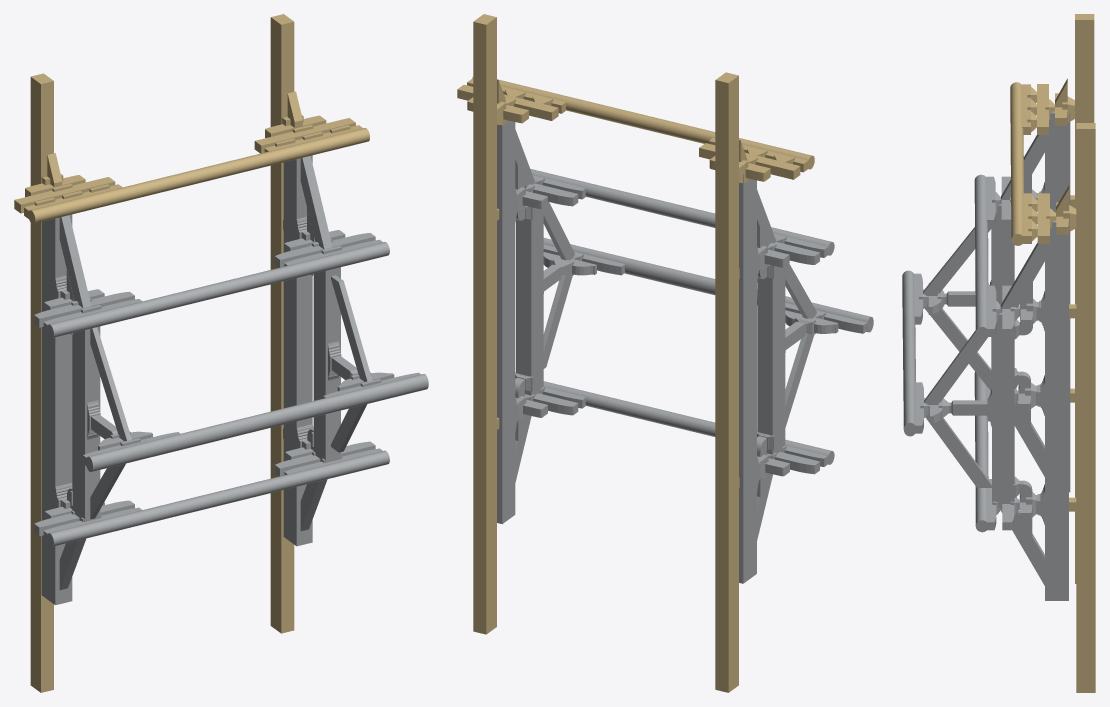
Rendered from COMPLETE_ROLE_GROUP_TEST_ONLY.glb.
3 renders of one model, left to right at view 1: azimuth 30°, elevation 25°; view 2: azimuth 150°, elevation 25°; view 3: azimuth 270°, elevation 25°, orthographic. The views are drawn at different scales.
Visible parts, largest first — view 1: east:UPPER_SIX_TEST, west:UPPER_SIX_TEST, west:FOUR_BEAM, east:FOUR_BEAM, RIDGE_PURLIN, UPPER_PURLIN_FRONT, UPPER_PURLIN_REAR, LOWER_PURLIN_FRONT, west:PINGLIANG, east:PINGLIANG, east:TUOJIAO_FRONT, west:TUOJIAO_FRONT (+12 smaller); view 2: east:UPPER_SIX_TEST, west:UPPER_SIX_TEST, east:FOUR_BEAM, west:FOUR_BEAM, west:PINGLIANG, east:PINGLIANG, LOWER_PURLIN_FRONT, UPPER_PURLIN_FRONT, UPPER_PURLIN_REAR, RIDGE_PURLIN, east:CHASHOU_REAR, west:CHASHOU_REAR (+4 smaller); view 3: east:UPPER_SIX_TEST, east:FOUR_BEAM, east:PINGLIANG, west:UPPER_SIX_TEST, west:FOUR_BEAM, LOWER_PURLIN_FRONT, UPPER_PURLIN_FRONT, RIDGE_PURLIN, west:PINGLIANG, UPPER_PURLIN_REAR, east:CHASHOU_FRONT, east:CHASHOU_REAR (+21 smaller).
Boxes of the visible parts, x1,y1,x2,y2 form: east:UPPER_SIX_TEST: [270, 14, 294, 633]; west:UPPER_SIX_TEST: [30, 73, 53, 692]; west:FOUR_BEAM: [41, 214, 72, 605]; east:FOUR_BEAM: [283, 155, 312, 546]; RIDGE_PURLIN: [86, 374, 428, 472]; UPPER_PURLIN_FRONT: [46, 242, 389, 338]; UPPER_PURLIN_REAR: [46, 450, 389, 546]; LOWER_PURLIN_FRONT: [28, 128, 369, 223]; west:PINGLIANG: [72, 326, 100, 521]; east:PINGLIANG: [313, 267, 340, 462]; east:TUOJIAO_FRONT: [300, 156, 332, 249]; west:TUOJIAO_FRONT: [59, 215, 91, 308]; east:UPPER_SIX_TEST: [473, 14, 496, 634]; west:UPPER_SIX_TEST: [715, 72, 738, 692]; east:FOUR_BEAM: [497, 120, 515, 524]; west:FOUR_BEAM: [739, 174, 756, 583]; west:PINGLIANG: [757, 266, 785, 454]; east:PINGLIANG: [516, 208, 543, 395]; LOWER_PURLIN_FRONT: [472, 76, 814, 169]; UPPER_PURLIN_FRONT: [530, 169, 834, 255]; UPPER_PURLIN_REAR: [543, 381, 834, 464]; RIDGE_PURLIN: [543, 238, 873, 332]; east:CHASHOU_REAR: [543, 275, 572, 368]; west:CHASHOU_REAR: [785, 333, 814, 427]; east:UPPER_SIX_TEST: [1076, 123, 1095, 692]; east:FOUR_BEAM: [1045, 220, 1068, 600]; east:PINGLIANG: [992, 312, 1014, 507]; west:UPPER_SIX_TEST: [1075, 14, 1094, 583]; west:FOUR_BEAM: [1045, 111, 1070, 492]; LOWER_PURLIN_FRONT: [1010, 82, 1023, 245]; UPPER_PURLIN_FRONT: [974, 174, 988, 338]; RIDGE_PURLIN: [902, 270, 915, 436]; west:PINGLIANG: [991, 204, 1014, 389]; UPPER_PURLIN_REAR: [974, 372, 988, 532]; east:CHASHOU_FRONT: [924, 330, 987, 404]; east:CHASHOU_REAR: [925, 413, 991, 487].
Size of the model in its own units: 6198 by 10710 by 3332.
